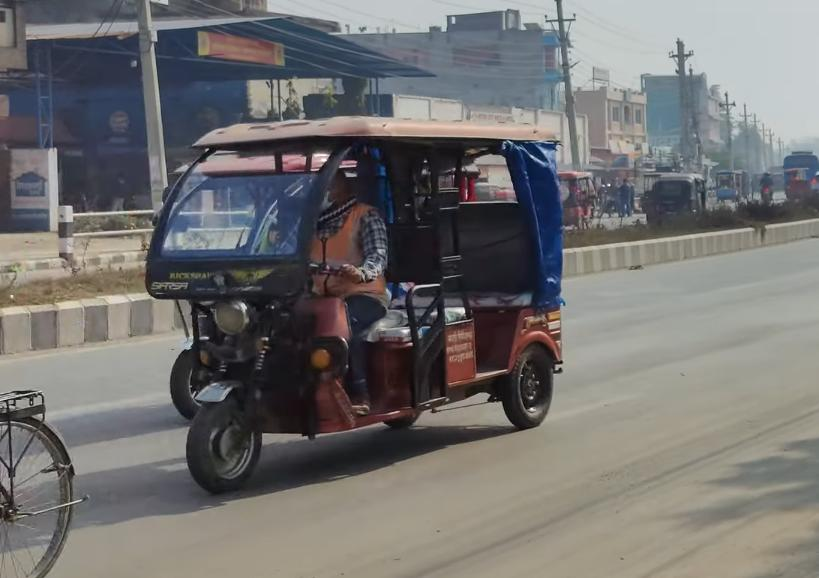e-rickshaw: (143, 115, 578, 498)
